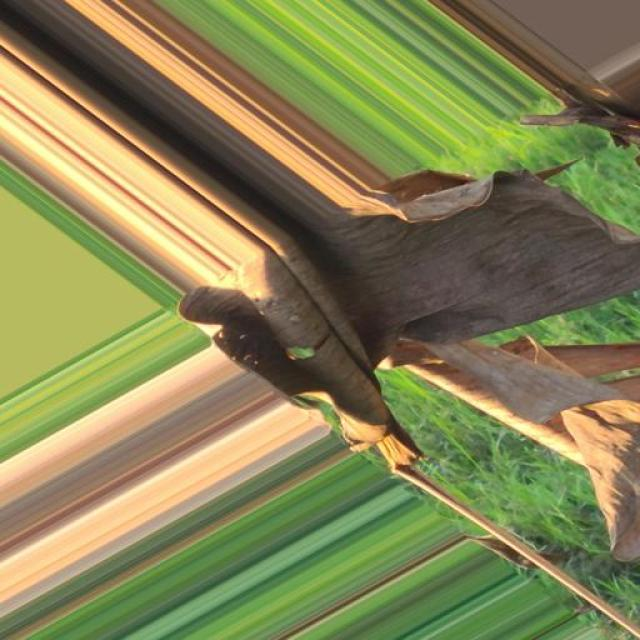Bract_mosaic_virus: (3, 2, 411, 478), (357, 121, 640, 578), (534, 576, 640, 640)
